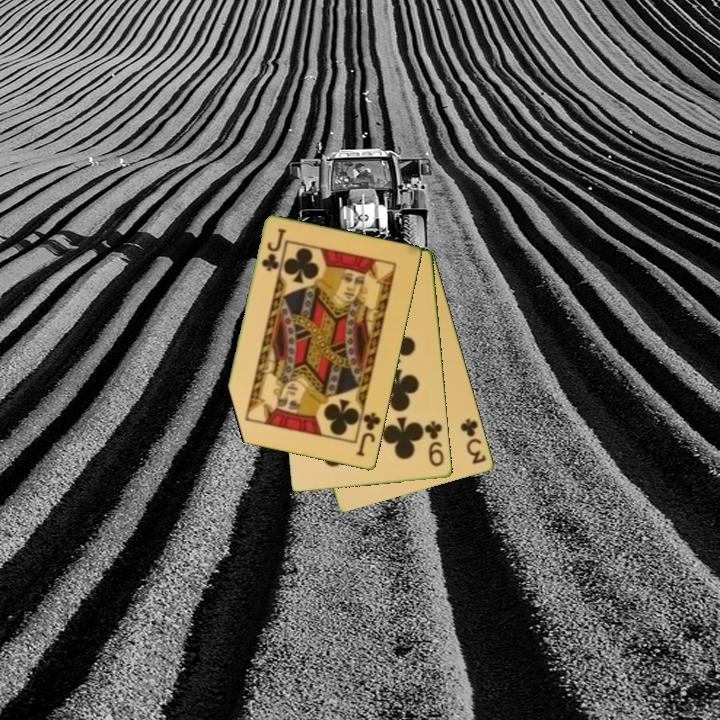3c: (457, 415, 489, 468)
9c: (422, 418, 447, 469)
Jc: (353, 405, 384, 460), (258, 225, 288, 274)
